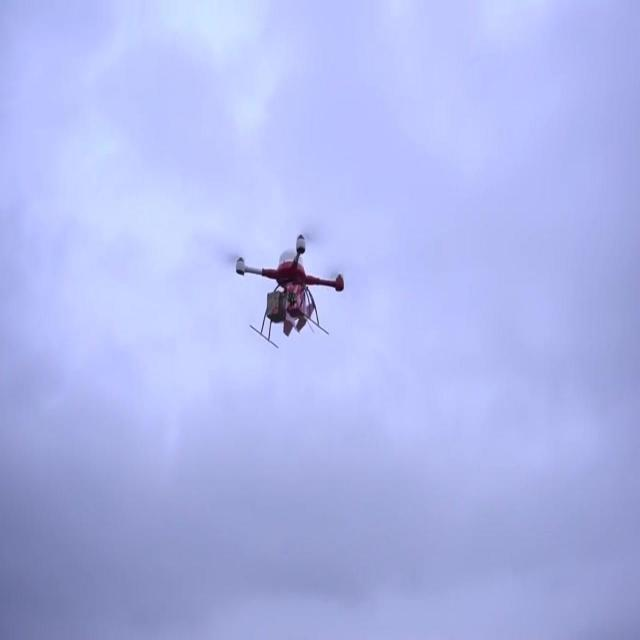UAV: (232, 228, 344, 348)
